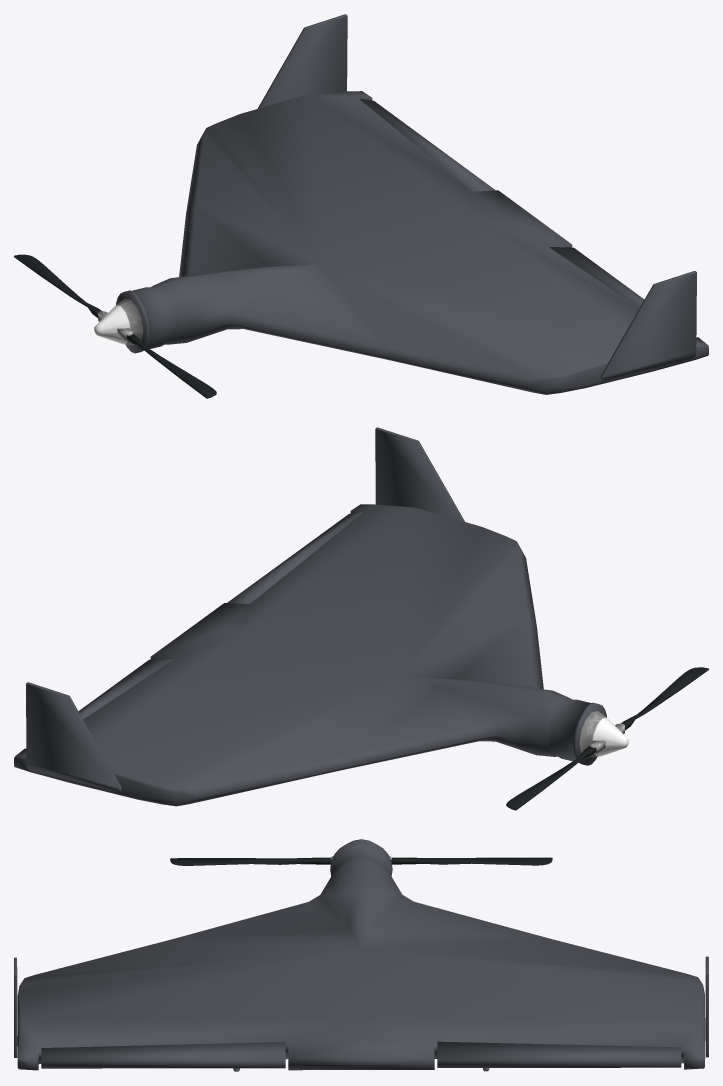
File: Dron_low_poly_3d_model.glb
3 views of the same model, one above another, from view 1: azimuth 30°, elevation 25°; view 2: azimuth 150°, elevation 25°; view 3: azimuth 270°, elevation 25° (orthographic).
Parts seen in each view (by area): view 1: unnamed; view 2: unnamed; view 3: unnamed.
Boxes of the visible parts, <box> form: unnamed: <box>14,14,708,398</box>; unnamed: <box>14,427,708,810</box>; unnamed: <box>14,839,708,1071</box>.
Bounding box in the file's own units: 20.07 × 5.05 × 27.68.
1 material, 1 textured.
